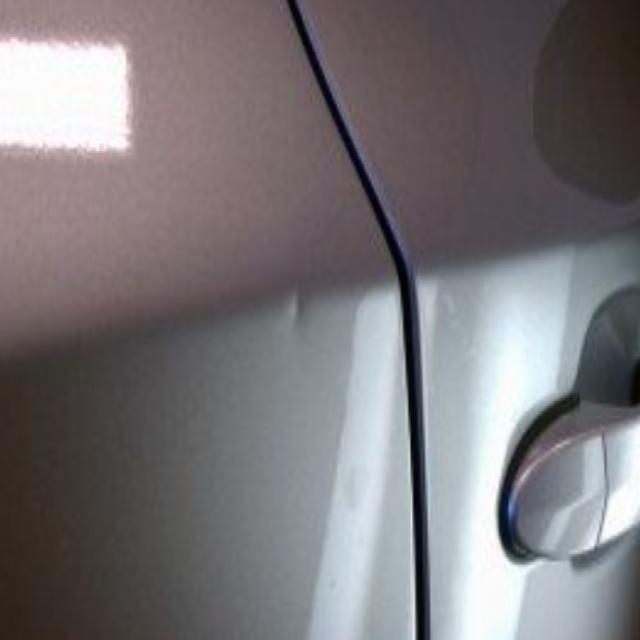dents: (276, 270, 318, 343)
